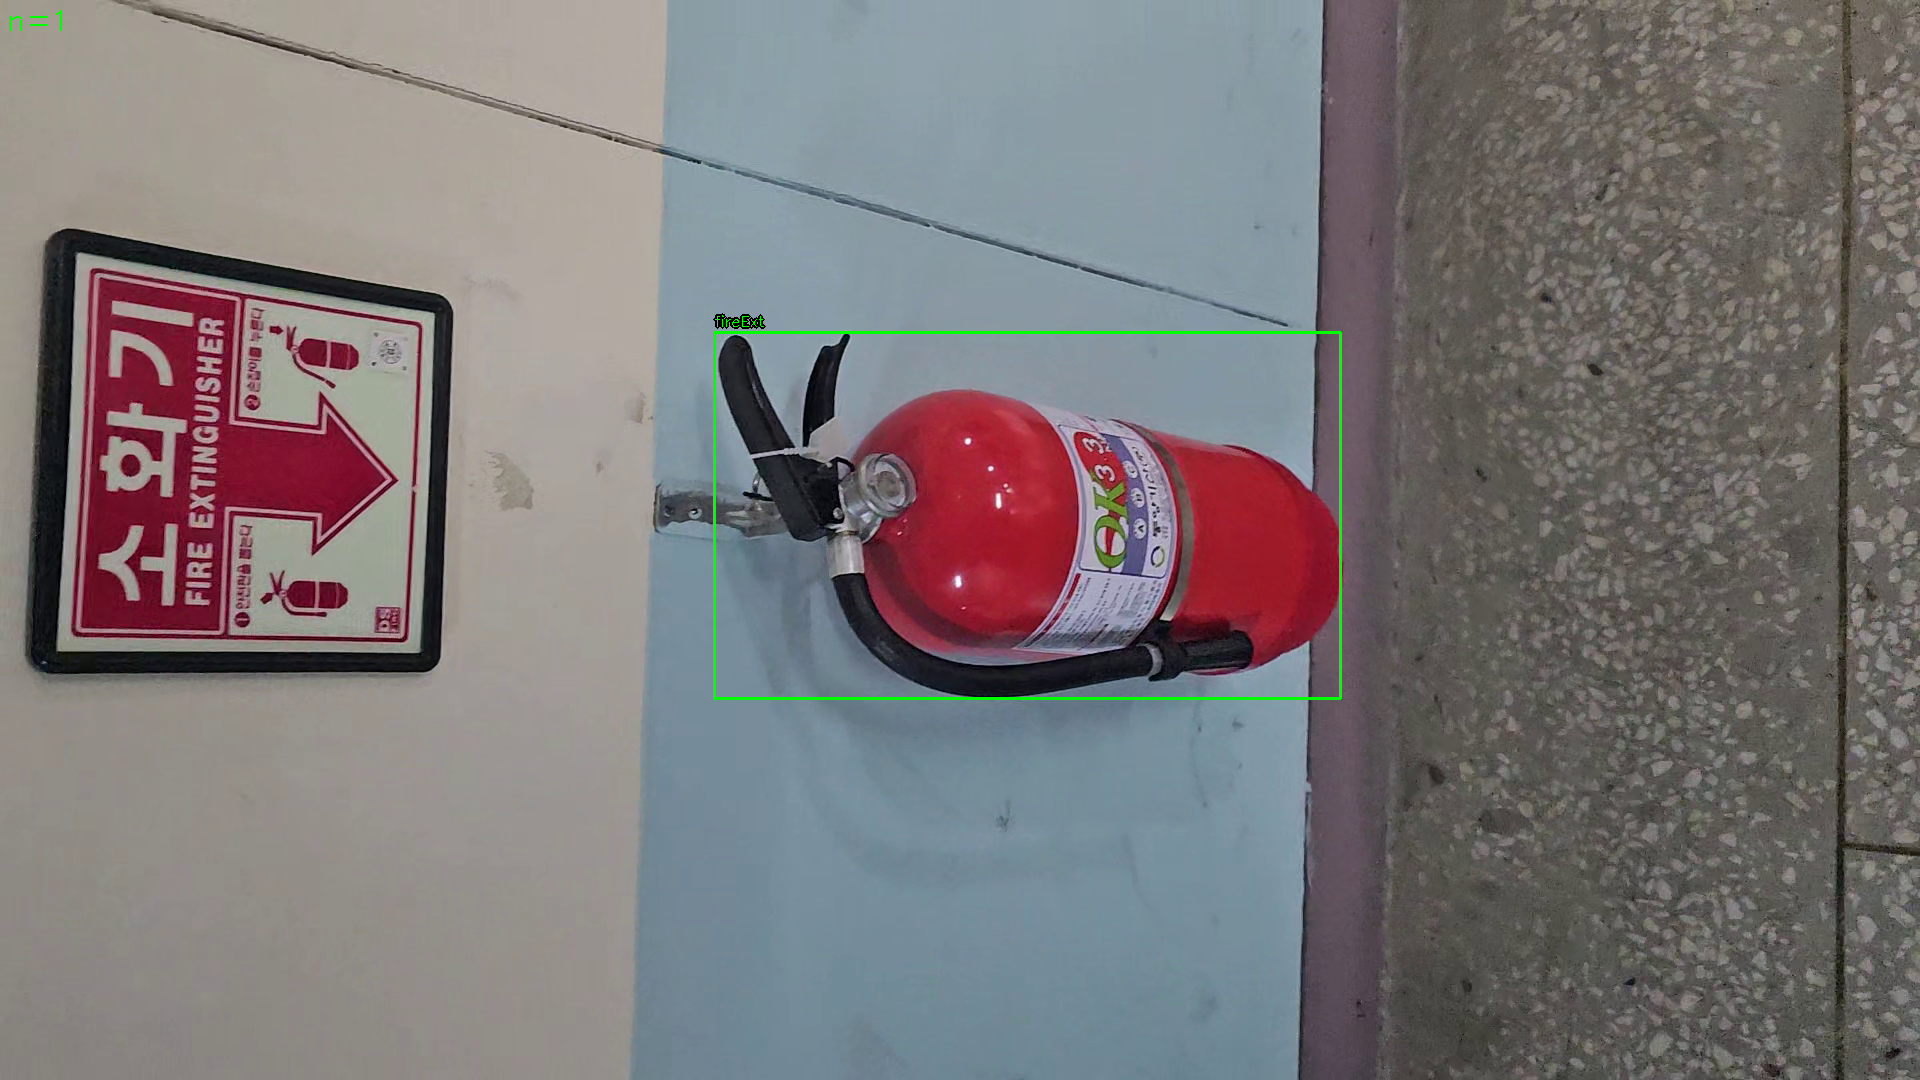lane: (713, 332, 1341, 699)
